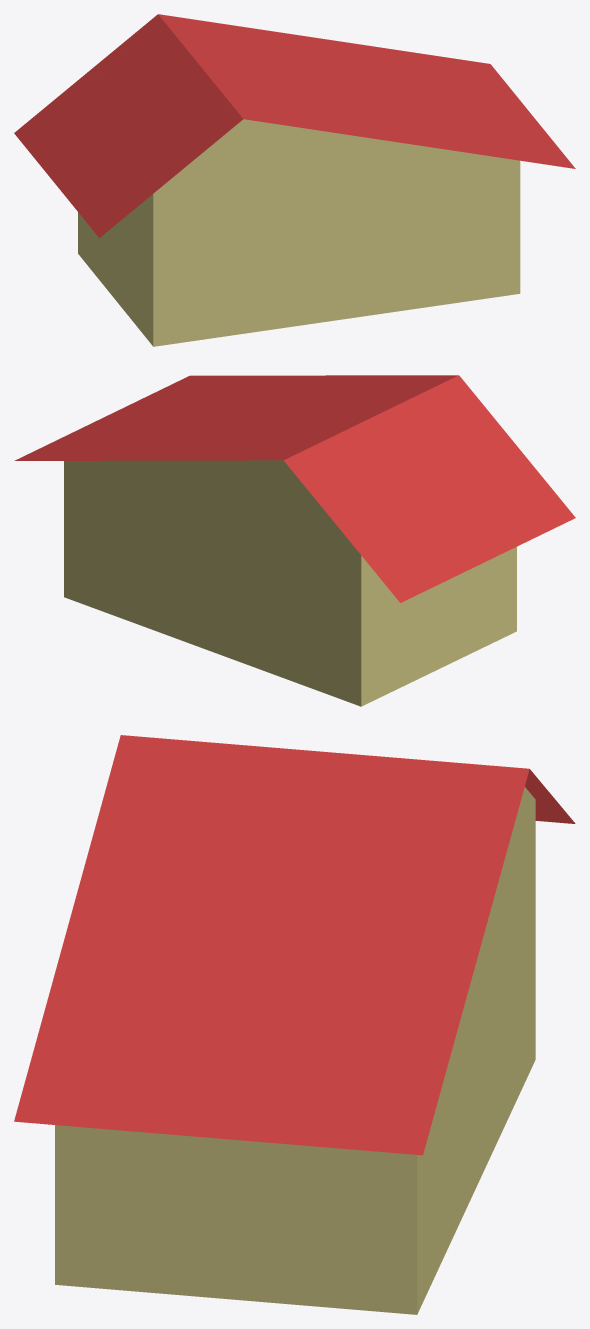
The picture shows the model from 3 angles, top to bottom: view 1: azimuth 30°, elevation 25°; view 2: azimuth 150°, elevation 25°; view 3: azimuth 270°, elevation 25°; orthographic projection. The views are drawn at different scales.
Bounding box in the file's own units: 30.89 × 20.1 × 13.88.
